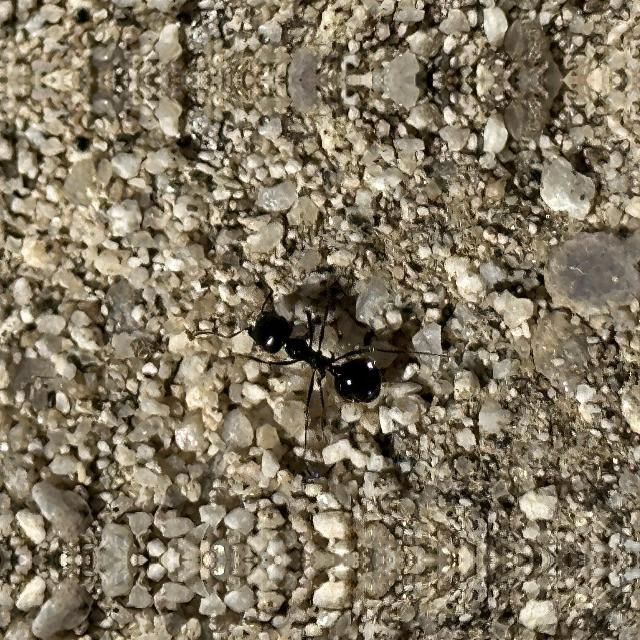Messor: (224, 302, 396, 420)
